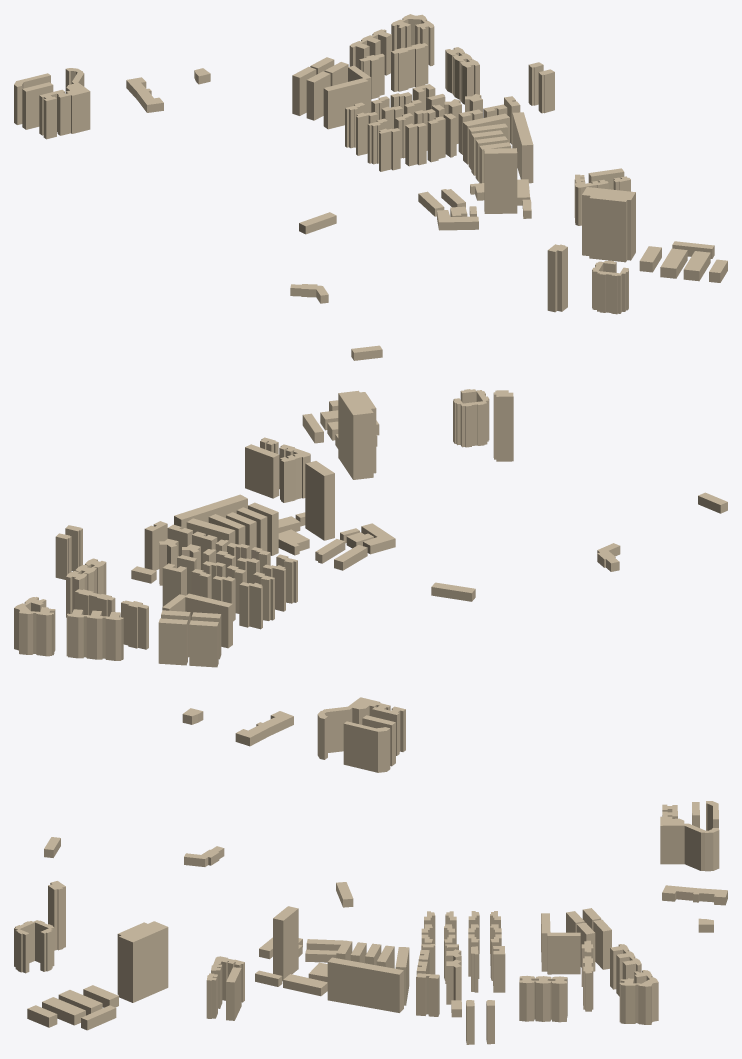
File: -12_-2-estimated-coarse.glb
The picture shows the model from 3 angles, top to bottom: view 1: azimuth 30°, elevation 25°; view 2: azimuth 150°, elevation 25°; view 3: azimuth 270°, elevation 25°; orthographic projection. The views are drawn at different scales.
Bounding box in the file's own units: 653 × 90 × 959.
